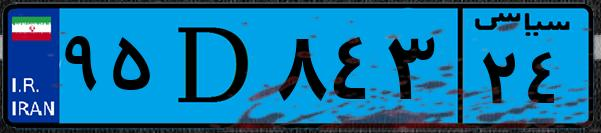2: (475, 38, 525, 113)
3: (385, 28, 445, 110)
4: (330, 28, 385, 110), (525, 38, 570, 115)
5: (110, 28, 158, 98)
8: (270, 28, 330, 110)
9: (57, 26, 110, 100)
D: (158, 12, 270, 120)
